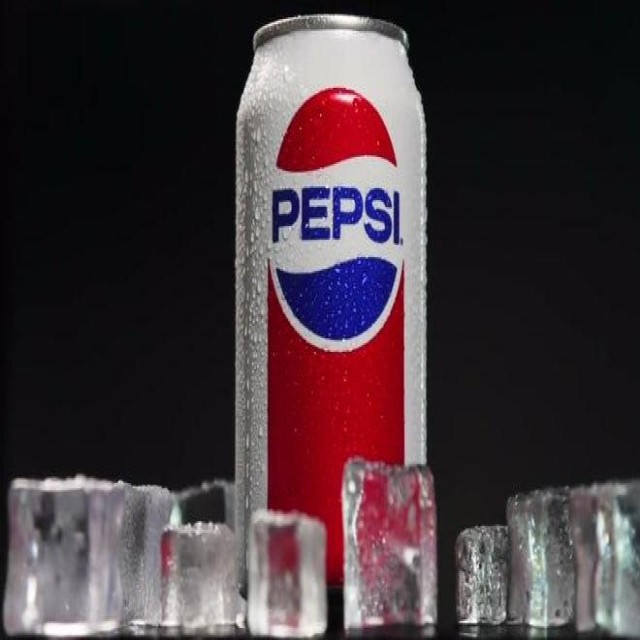pepsi: (265, 84, 401, 350)
